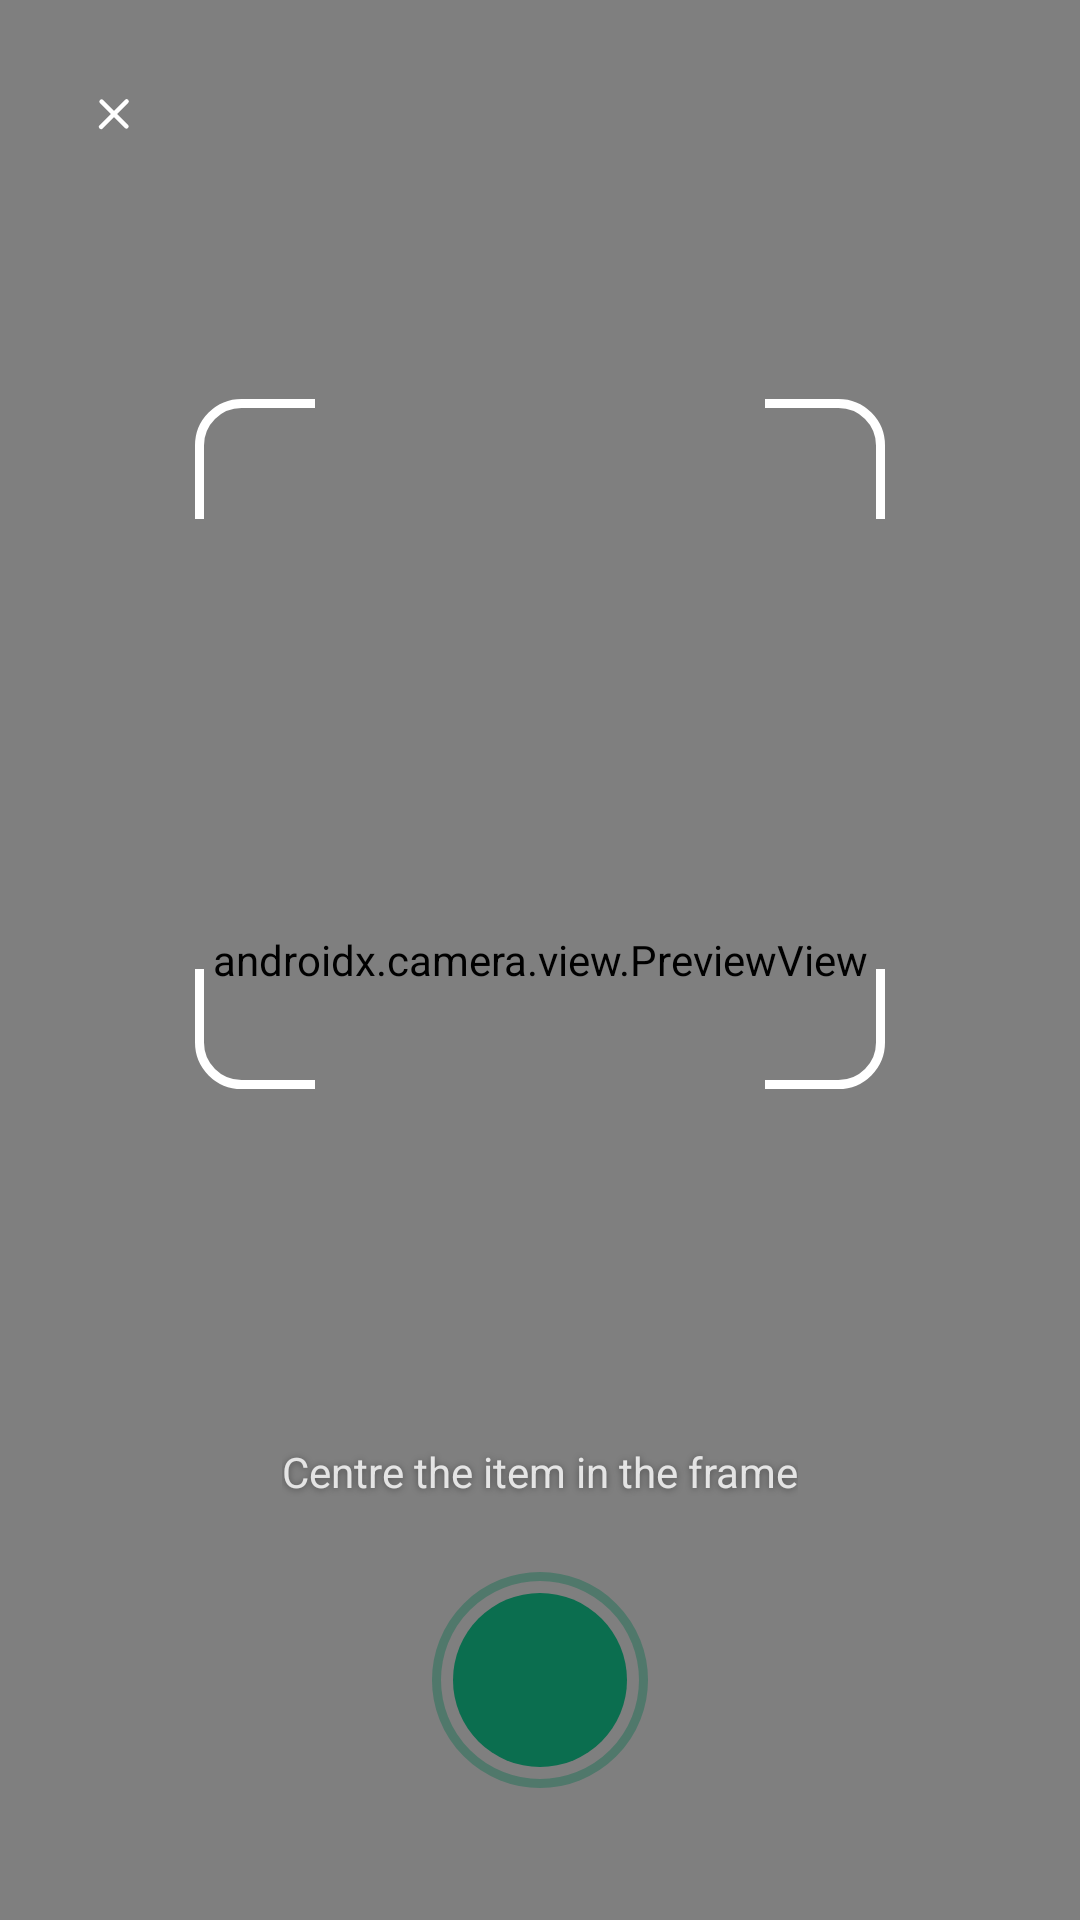

Icon bounding boxes for this 1080 × 1920 phone screenshot, format (x1, y1, x2, y2):
Close: (99, 99, 129, 129)
